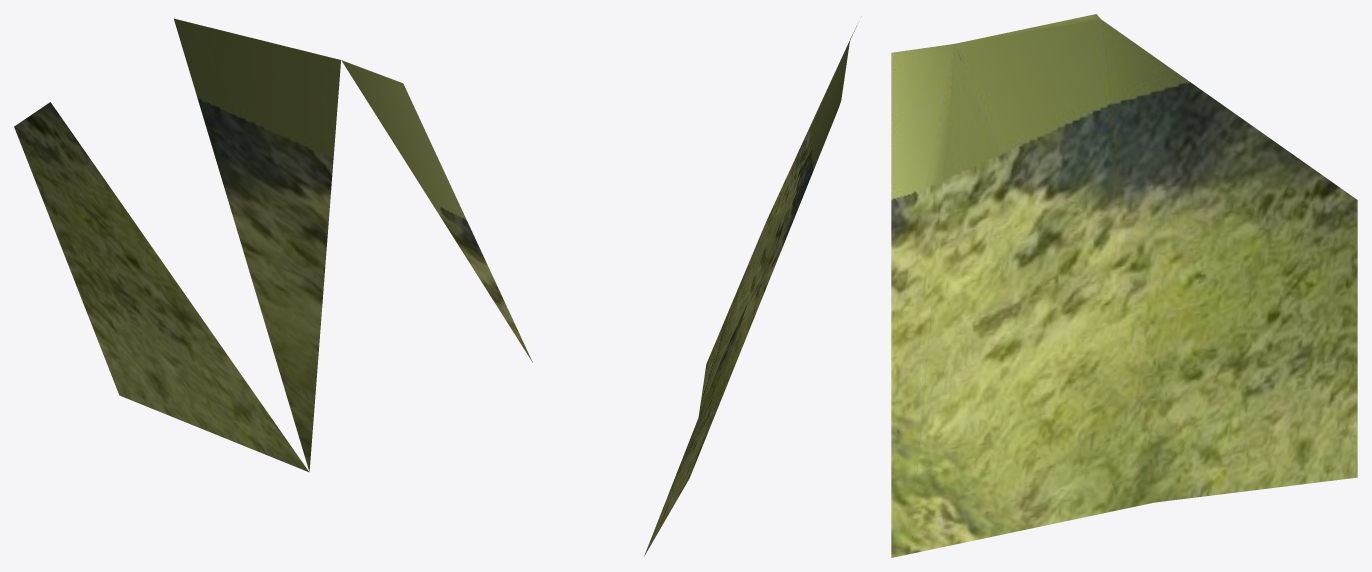
The picture shows the model from 3 angles, left to right: view 1: azimuth 30°, elevation 25°; view 2: azimuth 150°, elevation 25°; view 3: azimuth 270°, elevation 25°; orthographic projection. The views are drawn at different scales.
Size of the model in its own units: 1.82 by 2.95 by 2.95.
Materials: 2 (2 with a texture image).
